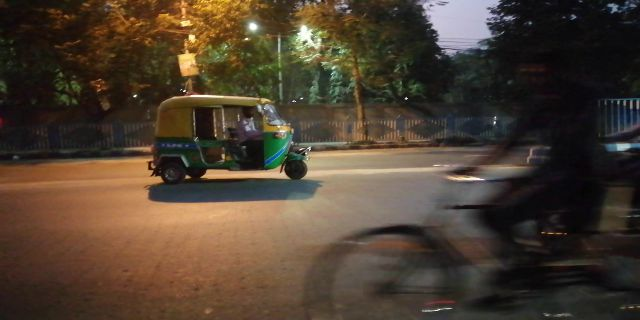Autorickshaw: (145, 96, 309, 185)
